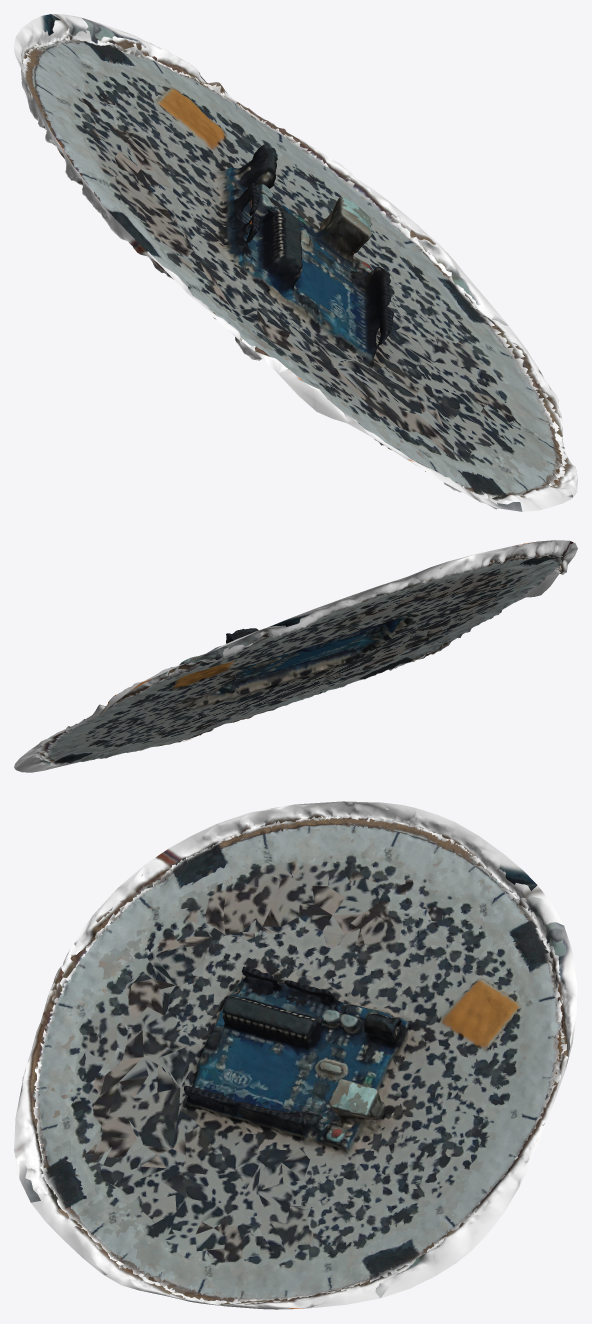
Rendered from arduino-uno-forgotanyeron.glb.
3 views of the same model, one above another, from view 1: azimuth 30°, elevation 25°; view 2: azimuth 150°, elevation 25°; view 3: azimuth 270°, elevation 25° (orthographic). The views are drawn at different scales.
Visible parts, largest first — view 1: model; view 2: model; view 3: model.
Boxes of the visible parts, x1,y1,x2,y2 form: model: (14, 14, 577, 511); model: (14, 540, 577, 772); model: (14, 801, 577, 1309).
Size of the model in its own units: 0.1637 by 0.1228 by 0.19.
1 material, 1 textured.
